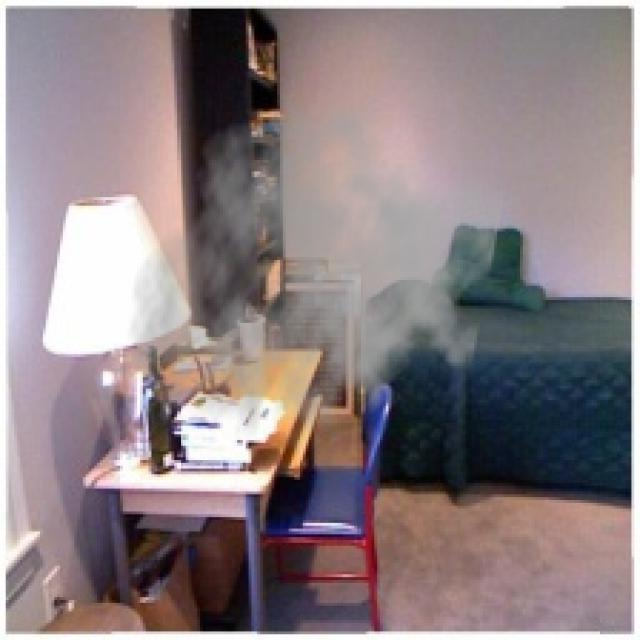Smoke: (126, 80, 508, 474)
